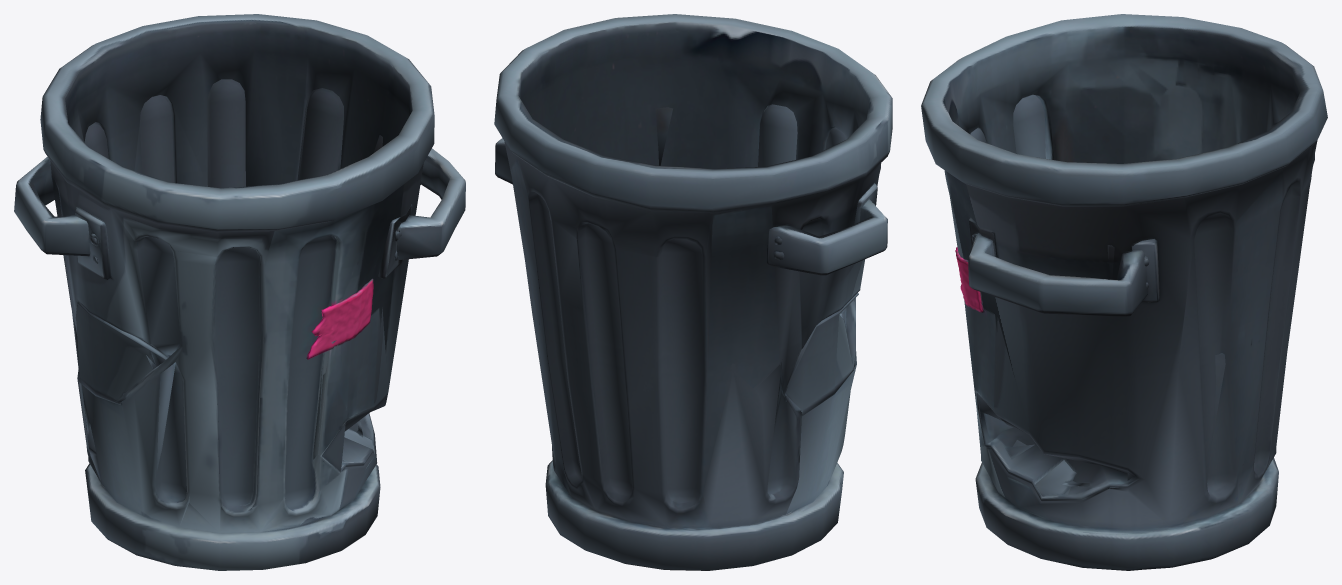
File: trash-can.glb
The picture shows the model from 3 angles, left to right: view 1: azimuth 30°, elevation 25°; view 2: azimuth 150°, elevation 25°; view 3: azimuth 270°, elevation 25°; orthographic projection.
Parts seen in each view (by area): view 1: tripo_node_d89d370e-6aee-4d14-8aee-827edf046eef; view 2: tripo_node_d89d370e-6aee-4d14-8aee-827edf046eef; view 3: tripo_node_d89d370e-6aee-4d14-8aee-827edf046eef.
Boxes of the visible parts, left/top/right/bottom form: tripo_node_d89d370e-6aee-4d14-8aee-827edf046eef: left=14, top=14, right=465, bottom=570; tripo_node_d89d370e-6aee-4d14-8aee-827edf046eef: left=494, top=14, right=892, bottom=570; tripo_node_d89d370e-6aee-4d14-8aee-827edf046eef: left=921, top=14, right=1327, bottom=570.
Bounding box in the file's own units: 0.9668 × 0.998 × 0.8613.
1 material, 1 textured.
